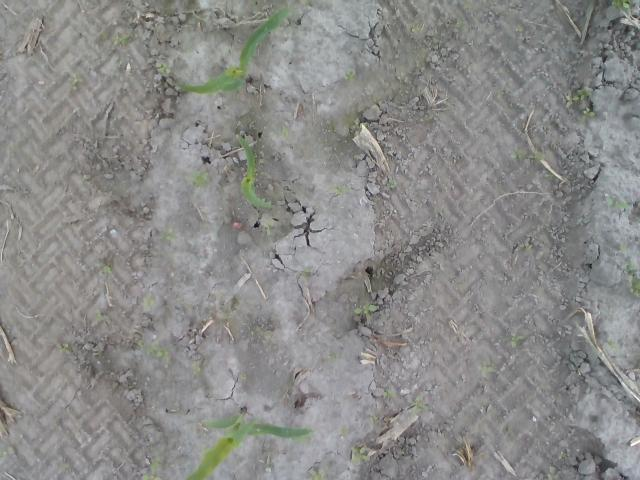Maize: (172, 8, 292, 96), (184, 405, 316, 480), (234, 134, 274, 210)
Weeds: (141, 455, 163, 480), (408, 396, 433, 418), (350, 446, 370, 464), (606, 197, 631, 210), (309, 466, 331, 480), (353, 302, 378, 314), (574, 86, 594, 101), (610, 0, 636, 11), (146, 344, 164, 359), (628, 276, 640, 298), (192, 170, 208, 186), (510, 334, 527, 348), (511, 146, 526, 161), (564, 94, 579, 107), (112, 34, 128, 46), (160, 229, 176, 241), (580, 108, 596, 120), (144, 294, 154, 310), (66, 72, 79, 84), (479, 365, 498, 373), (384, 386, 396, 398), (334, 184, 348, 194), (98, 263, 112, 272), (352, 116, 362, 127), (58, 343, 70, 352), (410, 23, 422, 32), (264, 223, 272, 235), (386, 180, 396, 189), (158, 64, 168, 72), (370, 416, 380, 424), (514, 24, 524, 32), (344, 72, 352, 81), (96, 311, 102, 320), (239, 374, 247, 380)
